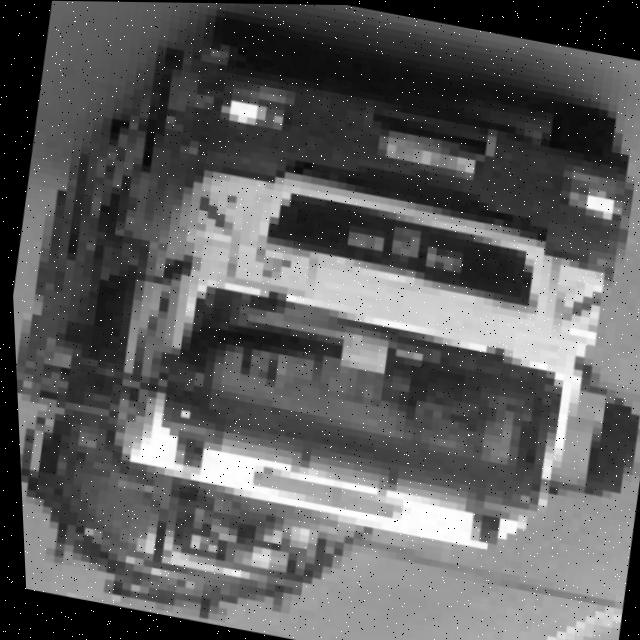truck: (60, 22, 640, 603)
